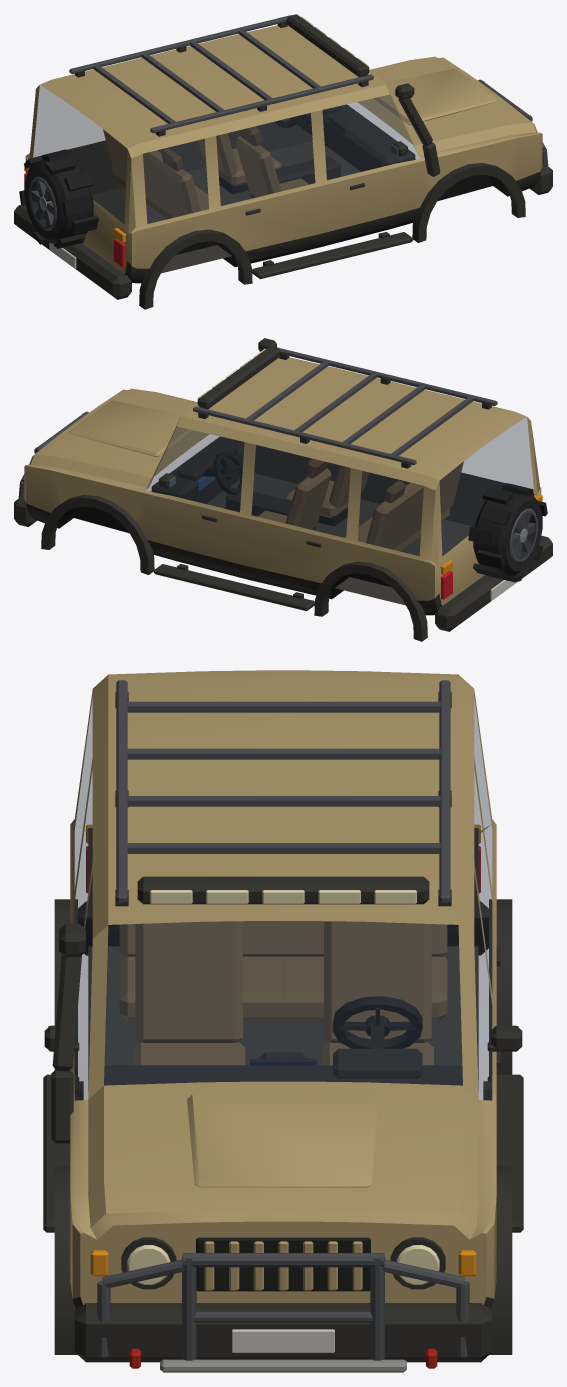
The model's file is bison.glb.
The picture shows the model from 3 angles, top to bottom: view 1: azimuth 30°, elevation 25°; view 2: azimuth 150°, elevation 25°; view 3: azimuth 270°, elevation 25°; orthographic projection. The views are drawn at different scales.
Parts seen in each view (by area): view 1: Body, Glass, Interior, Details; view 2: Body, Glass, Interior, Details; view 3: Body, Glass, Interior, Details, HeadLights.
Part boxes in pixels (left/top/right/bottom): Body: left=14, top=25, right=552, bottom=309; Glass: left=33, top=85, right=420, bottom=223; Interior: left=68, top=104, right=415, bottom=273; Details: left=19, top=14, right=548, bottom=248; Body: left=14, top=357, right=552, bottom=641; Glass: left=146, top=417, right=533, bottom=555; Interior: left=151, top=436, right=505, bottom=605; Details: left=18, top=338, right=547, bottom=582; Body: left=43, top=670, right=523, bottom=1372; Glass: left=75, top=700, right=491, bottom=1100; Interior: left=88, top=828, right=478, bottom=1090; Details: left=51, top=680, right=469, bottom=1368; HeadLights: left=127, top=1245, right=439, bottom=1284.
Bounding box in the file's own units: 4.8 × 1.66 × 2.14.
